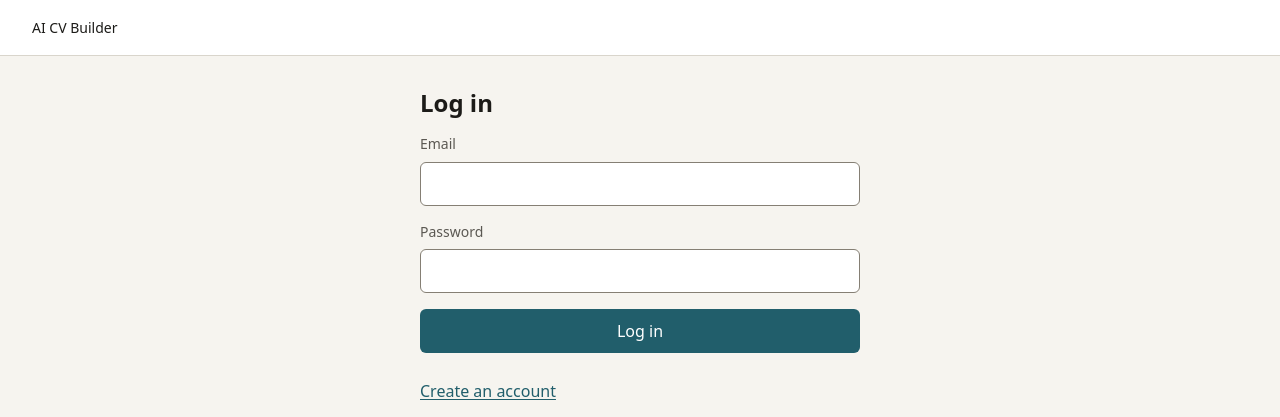
Test: sign-in keeps the requested destination (QA-09) › forgets the deep link once used: a later plain visit to sign-in lands on the list (negative case)
Expected: the password field labelled "Password" is shown, 420,249 -> 860,293
In the field labelled "Email": (640, 184) 420,162 -> 860,206, type "ana@example.com"
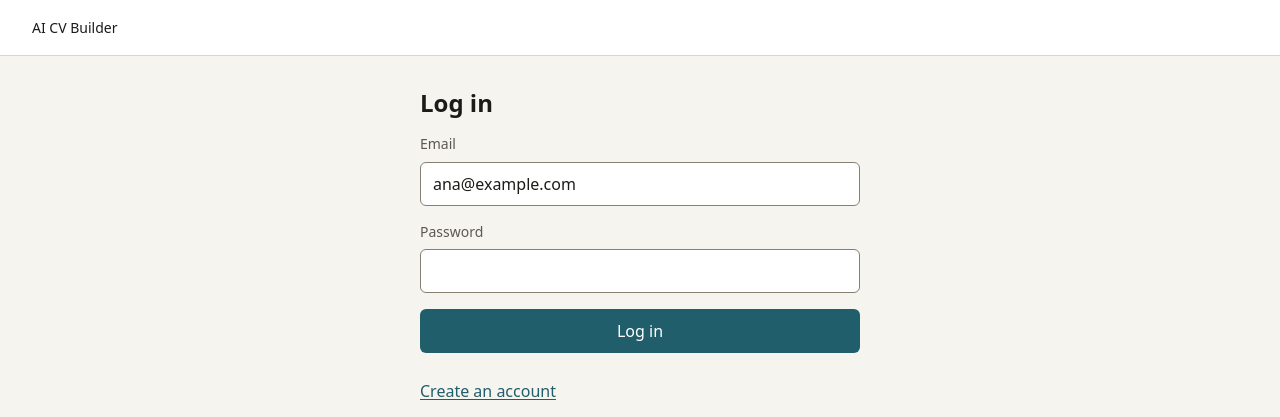
In the password field labelled "Password": (640, 271) 420,249 -> 860,293, type "correct-horse-battery"
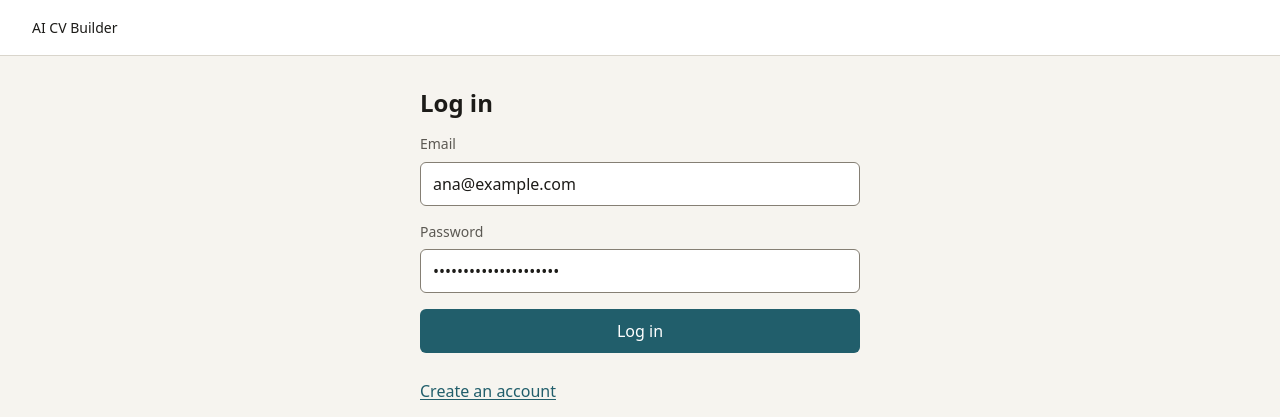
Submit the form labelled "Email Password Log in", box 420,134 -> 860,353
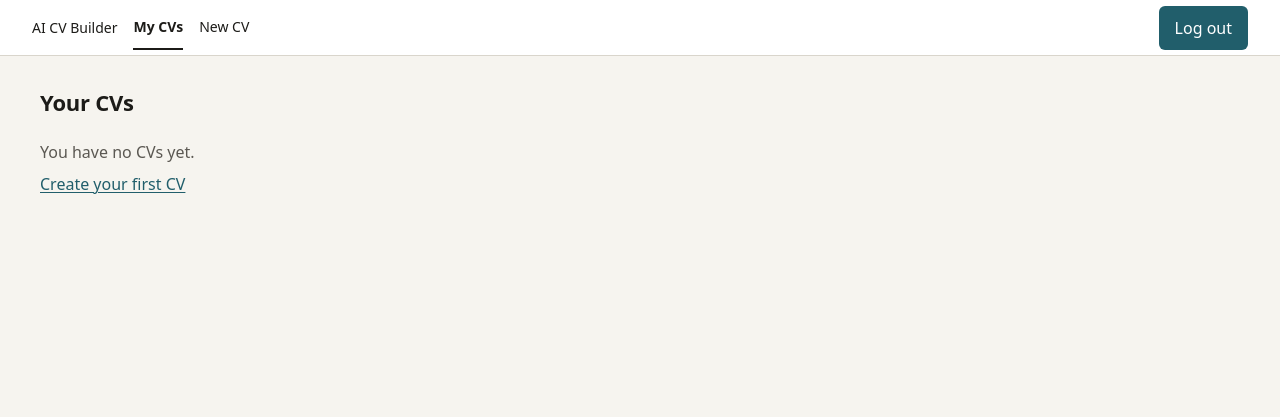
Result: the text "You have no CVs yet." is shown at 40,141 -> 194,163
